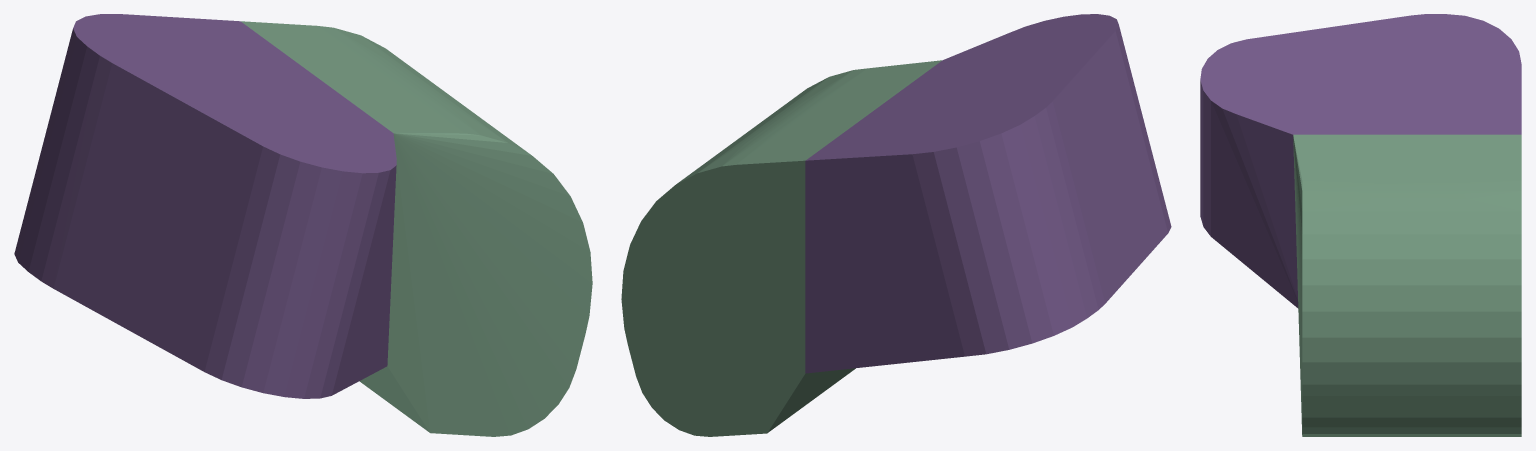
The model's file is right_thumb_proximal_base.obj.
3 renders of one model, left to right at view 1: azimuth 30°, elevation 25°; view 2: azimuth 150°, elevation 25°; view 3: azimuth 270°, elevation 25°, orthographic. The views are drawn at different scales.
Visible parts, largest first — view 1: geometry_1, geometry_0; view 2: geometry_1, geometry_0; view 3: geometry_0, geometry_1.
Part boxes in pixels (left/top/right/bottom): geometry_1: left=14, top=14, right=396, bottom=398; geometry_0: left=241, top=21, right=592, bottom=436; geometry_1: left=805, top=14, right=1171, bottom=373; geometry_0: left=621, top=60, right=941, bottom=436; geometry_0: left=1293, top=134, right=1521, bottom=436; geometry_1: left=1200, top=14, right=1521, bottom=308.
Size of the model in its own units: 0.0211 by 0.0172 by 0.0168.
